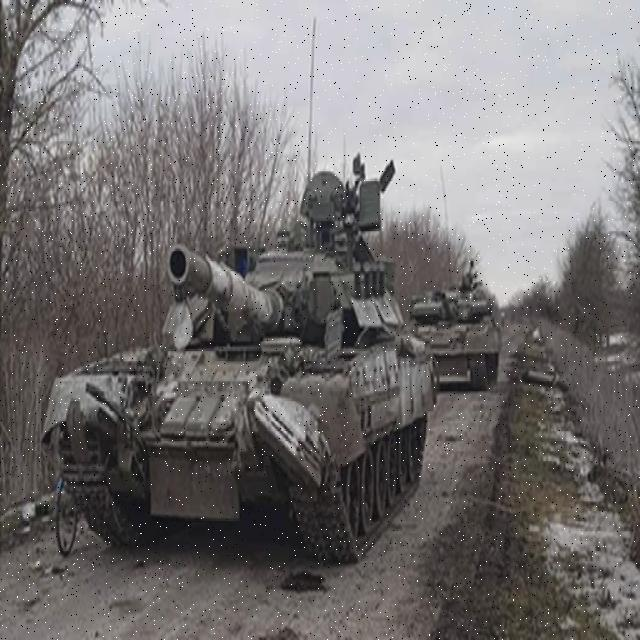TANK: (55, 158, 436, 576), (407, 269, 505, 389)
